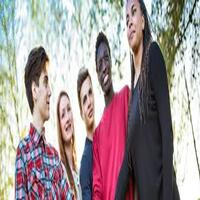person: (13, 37, 57, 127), (120, 1, 168, 56), (70, 68, 104, 125), (51, 92, 84, 148), (93, 30, 119, 96)
